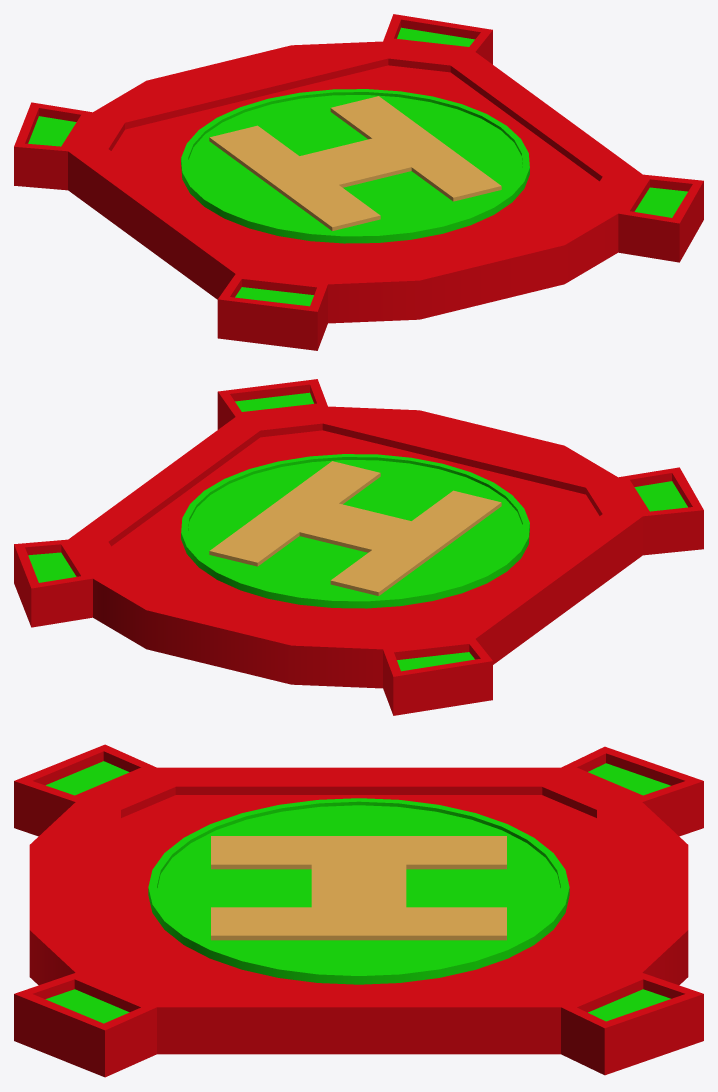
File: farmTower.fbx
3 views of the same model, one above another, from view 1: azimuth 30°, elevation 25°; view 2: azimuth 150°, elevation 25°; view 3: azimuth 270°, elevation 25° (orthographic). The views are drawn at different scales.
Visible parts, largest first — view 1: baseModel, 2ndUpgrade, 3rdUpgrade; view 2: baseModel, 2ndUpgrade, 3rdUpgrade; view 3: baseModel, 2ndUpgrade, 3rdUpgrade.
Part boxes in pixels (bbox=[...]): baseModel: bbox=[14, 14, 703, 350]; 2ndUpgrade: bbox=[181, 89, 529, 243]; 3rdUpgrade: bbox=[209, 96, 501, 230]; baseModel: bbox=[14, 379, 703, 715]; 2ndUpgrade: bbox=[181, 454, 529, 608]; 3rdUpgrade: bbox=[209, 461, 501, 595]; baseModel: bbox=[14, 744, 703, 1077]; 2ndUpgrade: bbox=[148, 798, 569, 984]; 3rdUpgrade: bbox=[211, 836, 506, 940].
Bounding box in the file's own units: 716 × 57.14 × 730.
